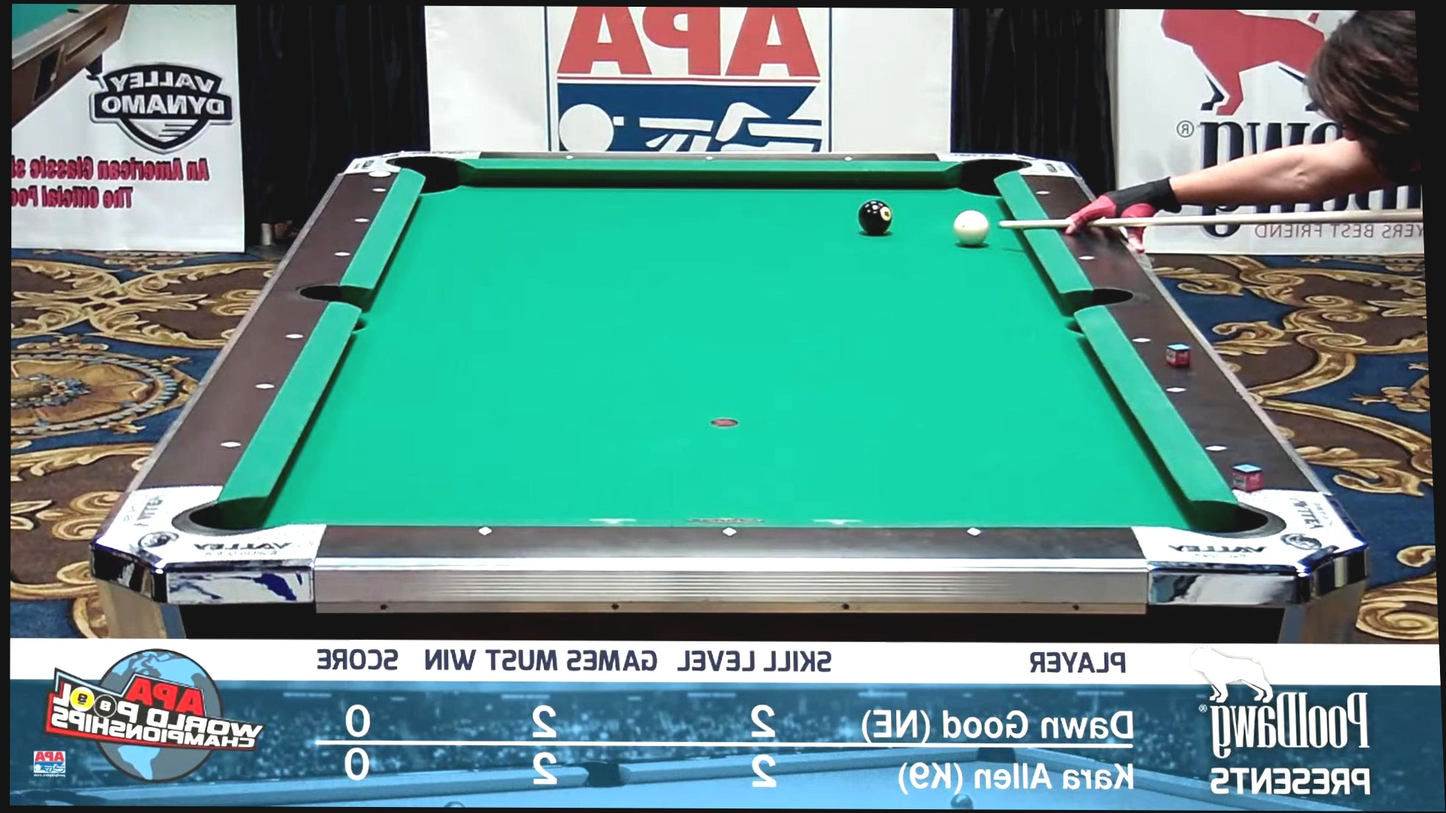Black: (858, 200, 893, 235)
Cue: (955, 210, 989, 246)
Solid: (1169, 383, 1186, 394), (840, 153, 857, 164), (561, 152, 578, 163), (1209, 444, 1225, 455), (1135, 335, 1151, 346), (702, 153, 718, 164), (355, 214, 371, 225), (224, 440, 240, 451), (1035, 187, 1052, 197), (371, 185, 388, 195), (336, 248, 353, 258), (289, 331, 306, 341), (477, 524, 494, 534), (1079, 254, 1095, 264), (258, 383, 274, 393), (722, 525, 738, 535), (966, 527, 982, 537)
